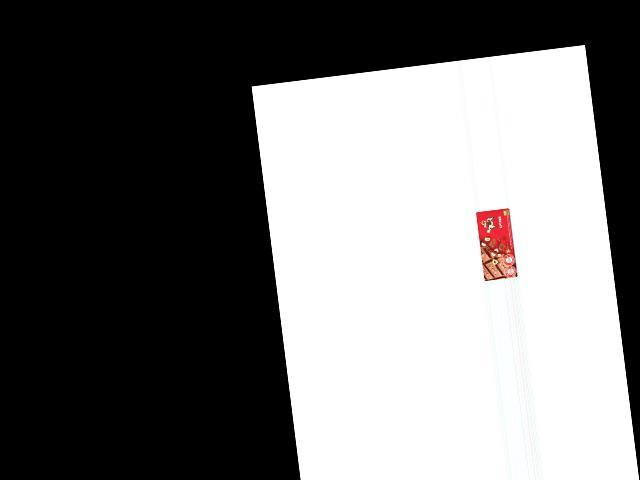chocolate: (475, 207, 518, 281)
